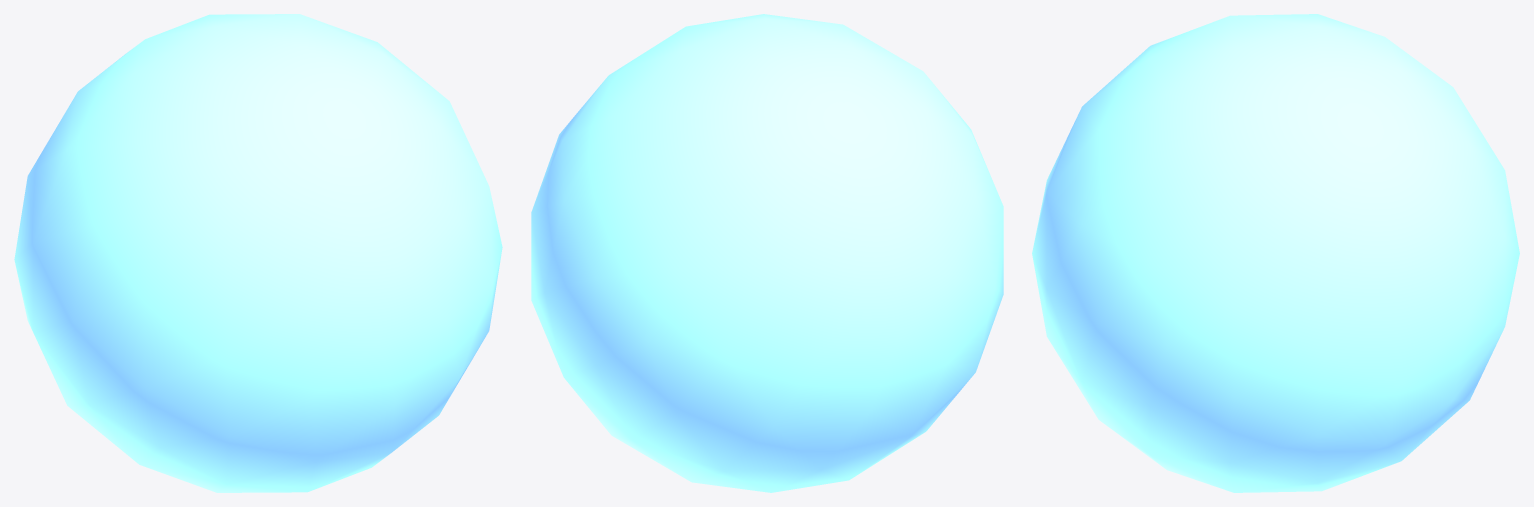
Rendered from lightningOrb.glb.
3 renders of one model, left to right at view 1: azimuth 30°, elevation 25°; view 2: azimuth 150°, elevation 25°; view 3: azimuth 270°, elevation 25°, orthographic.
Parts seen in each view (by area): view 1: lightningOrb; view 2: lightningOrb; view 3: lightningOrb.
Boxes of the visible parts, left/top/right/bottom form: lightningOrb: left=14, top=14, right=502, bottom=492; lightningOrb: left=531, top=14, right=1003, bottom=492; lightningOrb: left=1032, top=14, right=1519, bottom=492.
Bounding box in the file's own units: 0.4605 × 0.4591 × 0.4688.
